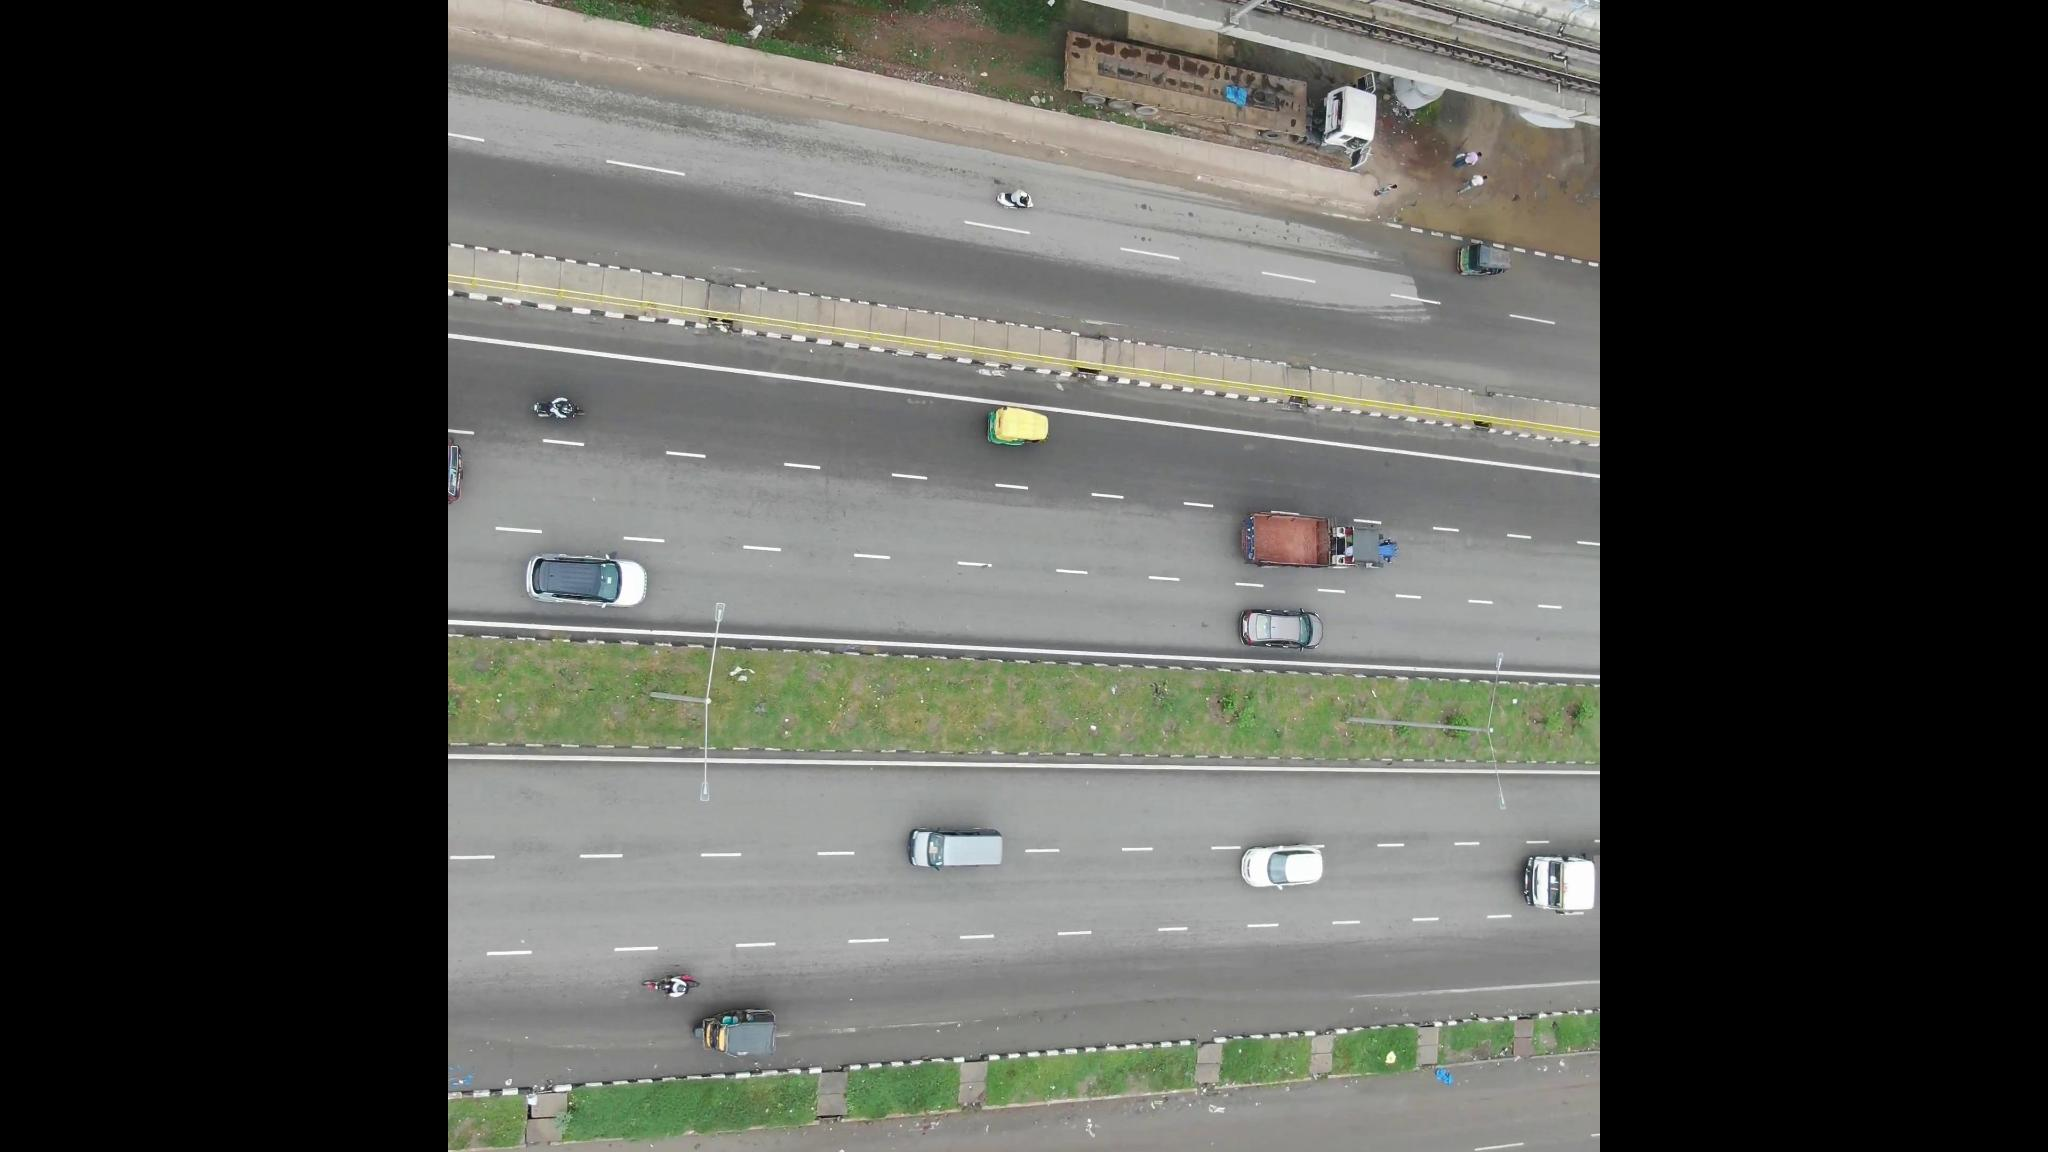Waterlogging: (821, 983, 1252, 1062), (452, 1111, 814, 1152)
